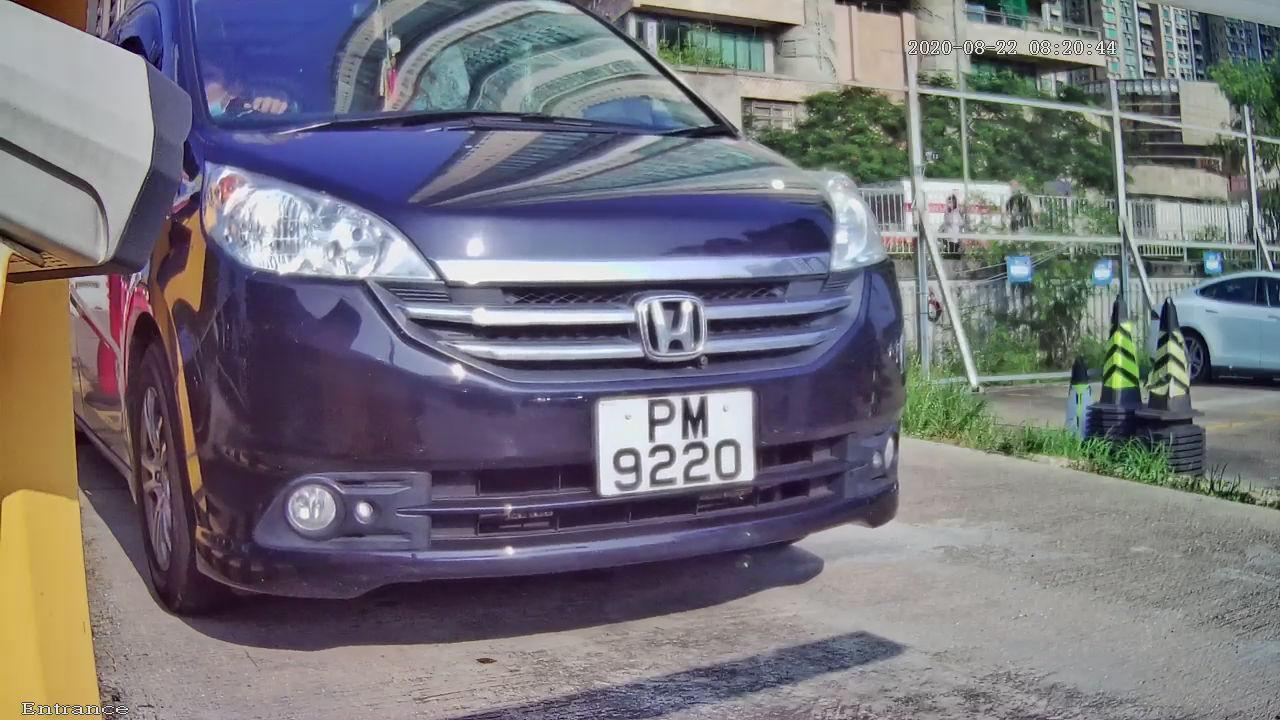Car: (29, 1, 978, 682)
License Plate: (578, 377, 772, 508)
